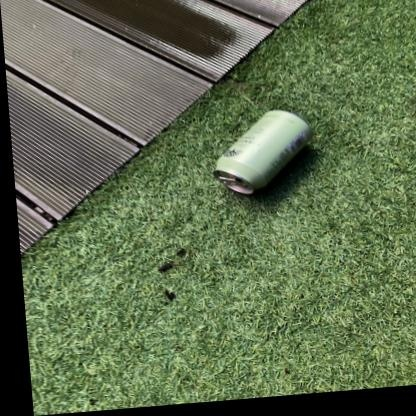trash: (214, 110, 311, 194)
